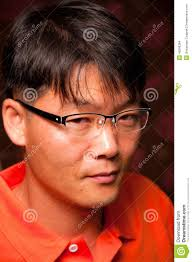Glasses: (15, 93, 156, 137)
